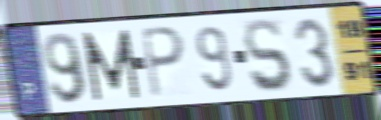3: (292, 15, 338, 90)
9: (41, 31, 88, 106), (194, 24, 234, 94)
M: (80, 27, 143, 104)
P: (138, 25, 187, 101)
S: (241, 16, 294, 95)
